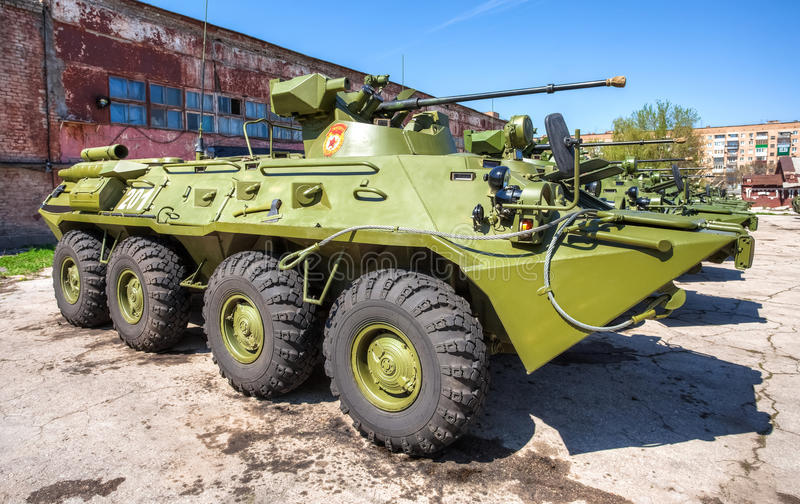btr: (43, 128, 744, 454)
